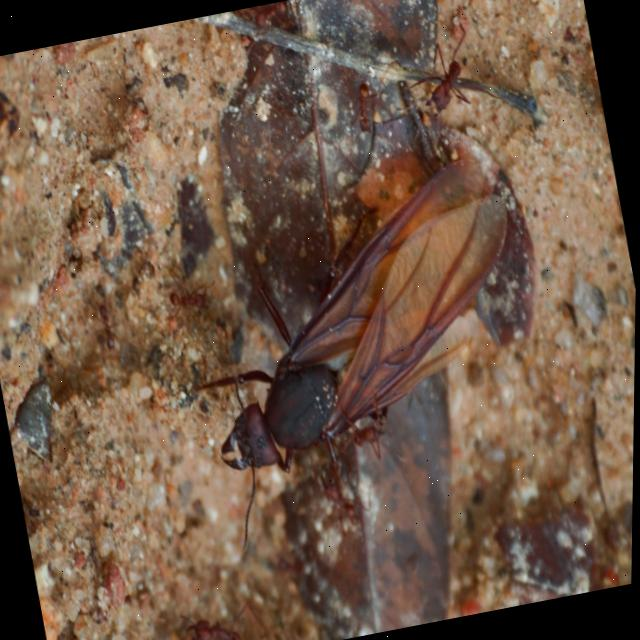Alive-Female-Alate: (137, 64, 565, 558)
